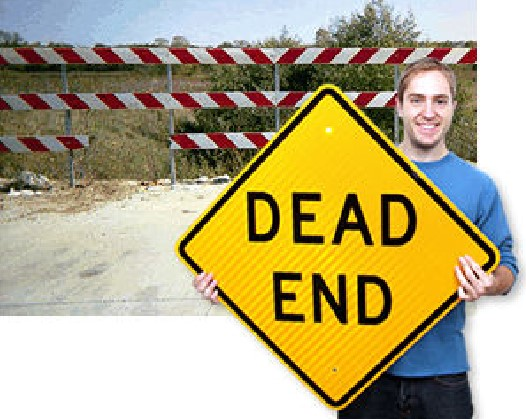Deadend: (174, 81, 501, 414)
